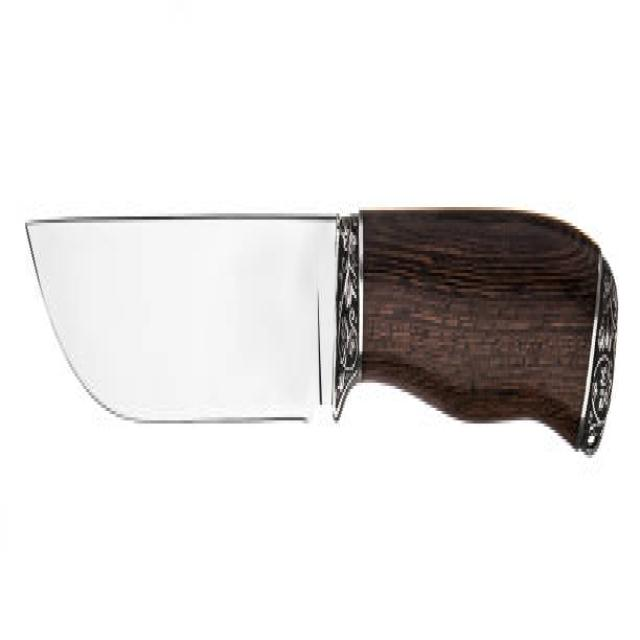knife: (18, 180, 623, 515)
